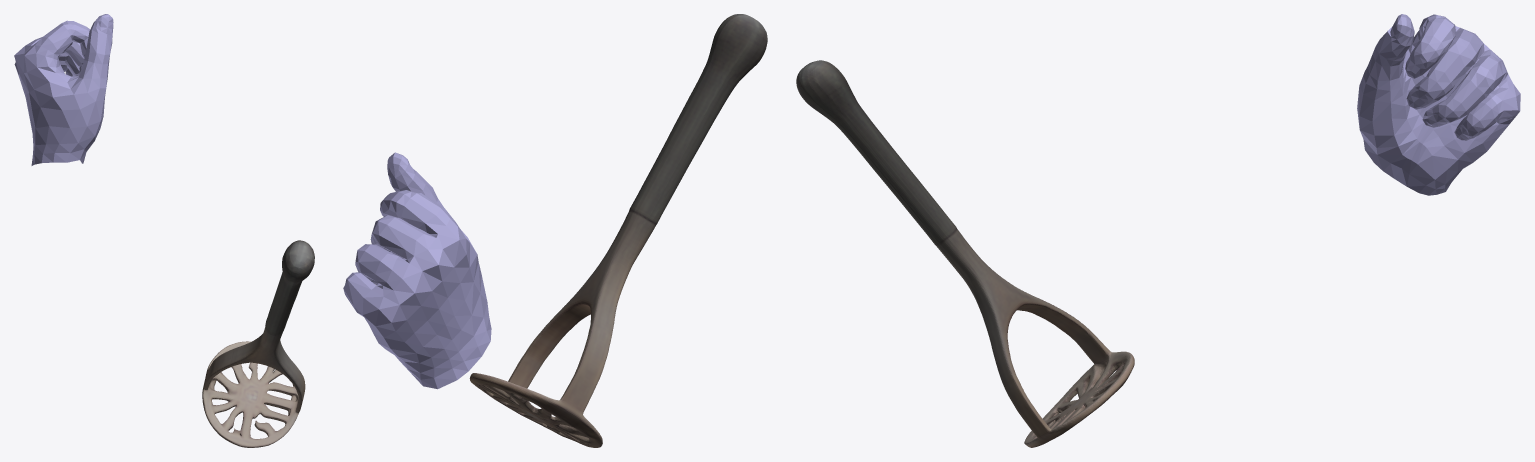
The model's file is frame_0008_source_000008_hand_object.glb.
3 views of the same model, side by side, from view 1: azimuth 30°, elevation 25°; view 2: azimuth 150°, elevation 25°; view 3: azimuth 270°, elevation 25° (orthographic). The views are drawn at different scales.
Parts seen in each view (by area): view 1: world; view 2: world; view 3: world.
Part boxes in pixels (x1,y1,x2,y2): world: (14, 14, 314, 447); world: (343, 14, 767, 447); world: (796, 14, 1520, 447).
Size of the model in its own units: 0.112 by 0.2634 by 0.4126.
